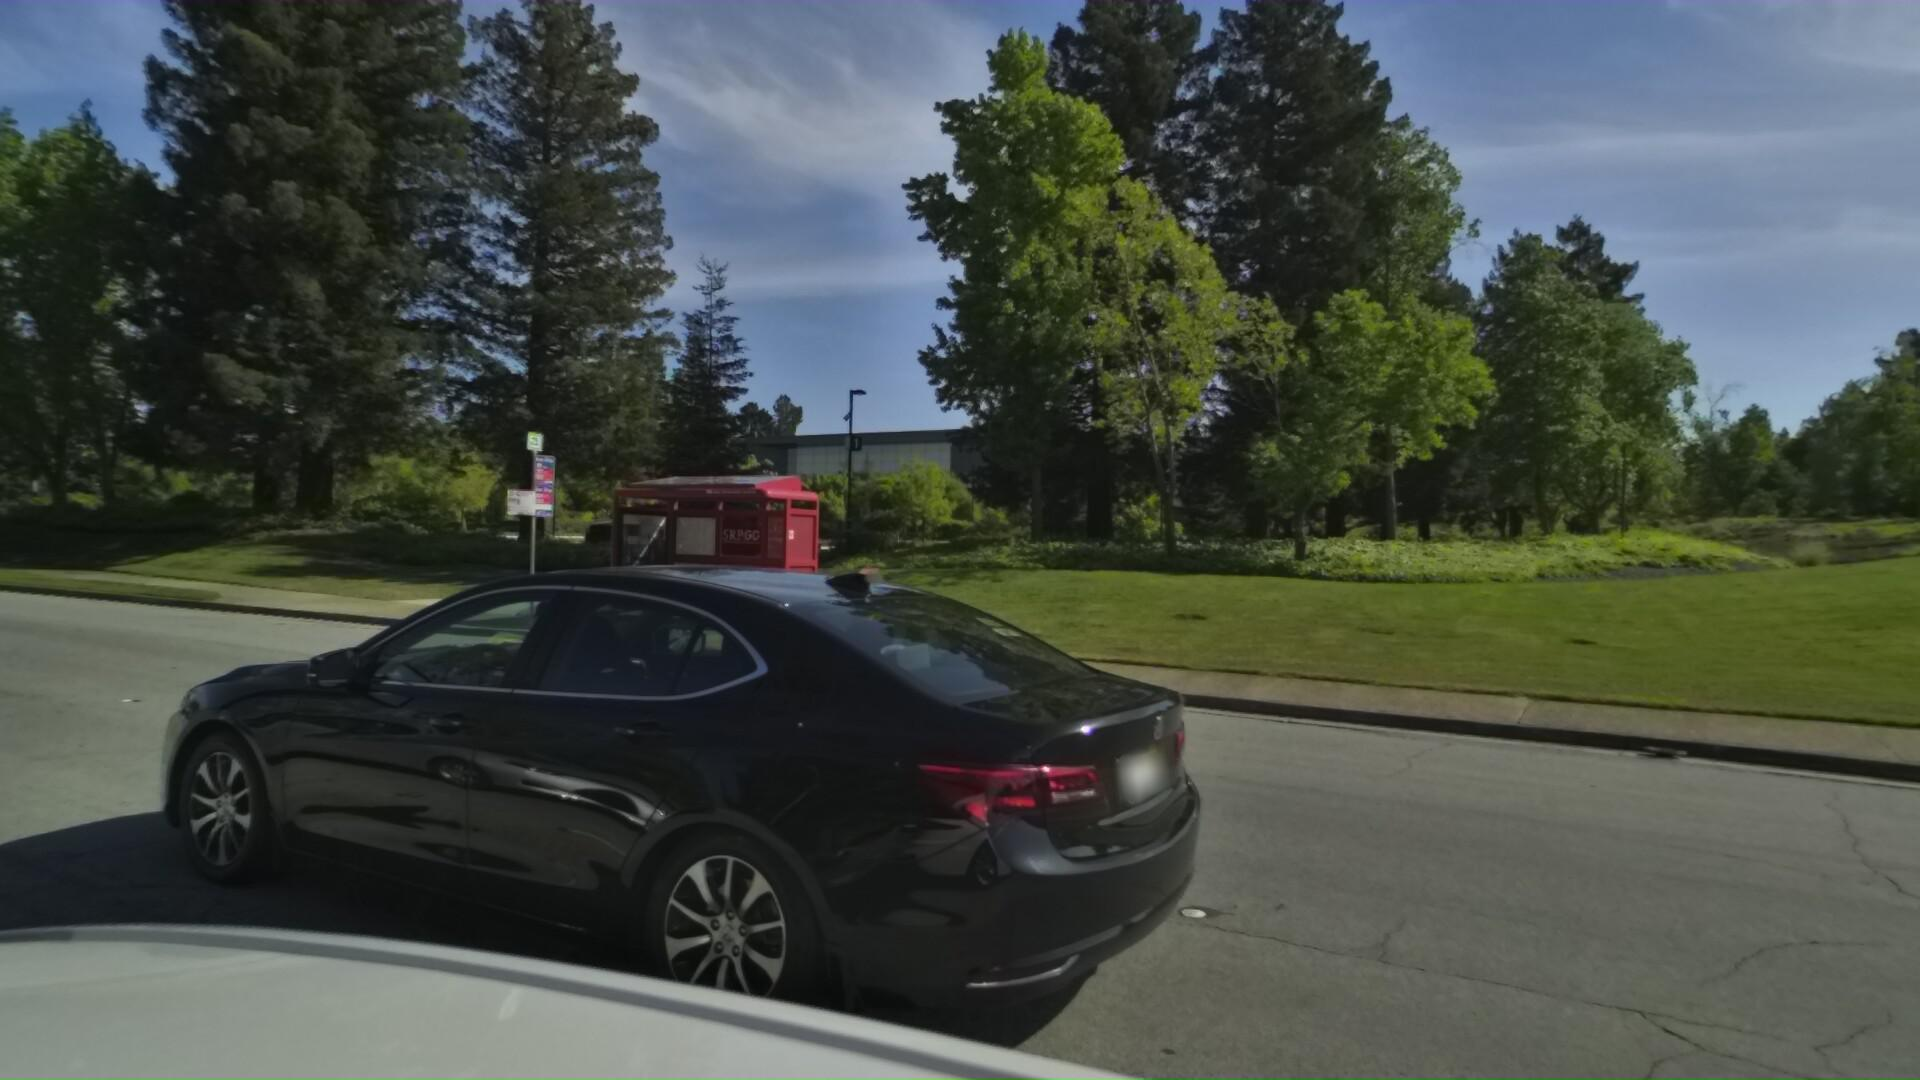car: (29, 514, 1124, 1076), (575, 487, 752, 549)
